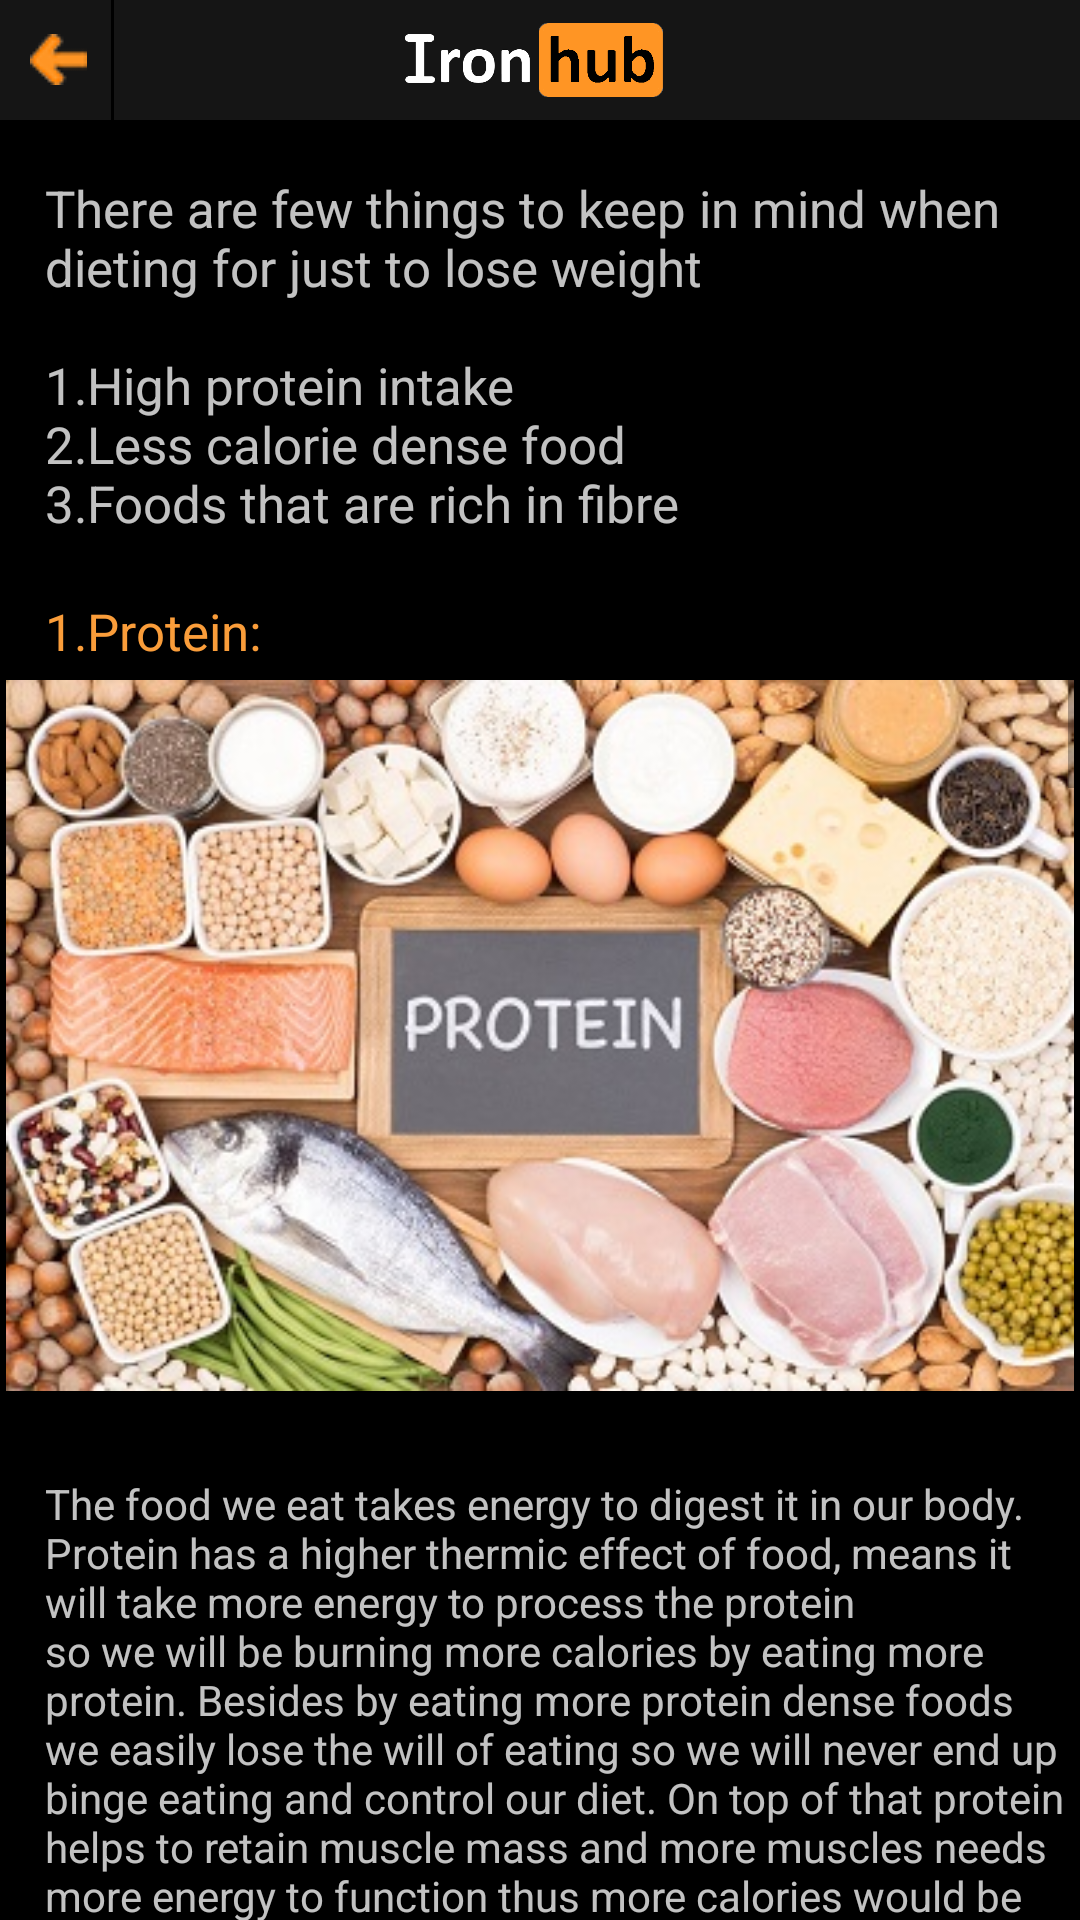

Icon bounding boxes for this 1080 × 1920 phone screenshot, format (x1, y1, x2, y2):
backbutton: (30, 34, 87, 85)
